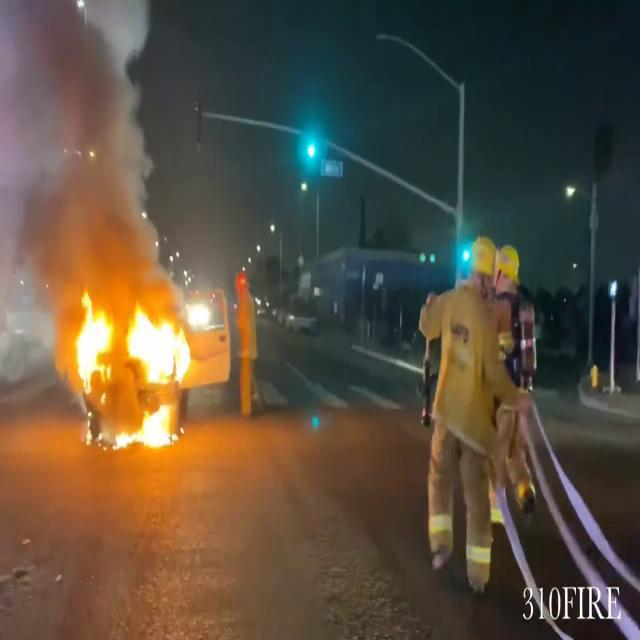Fire: (67, 283, 196, 448)
Smoke: (0, 0, 165, 304)
